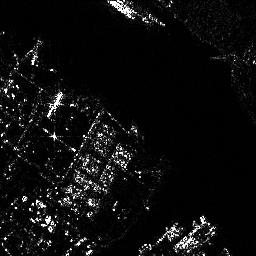ship: (105, 1, 135, 20)
